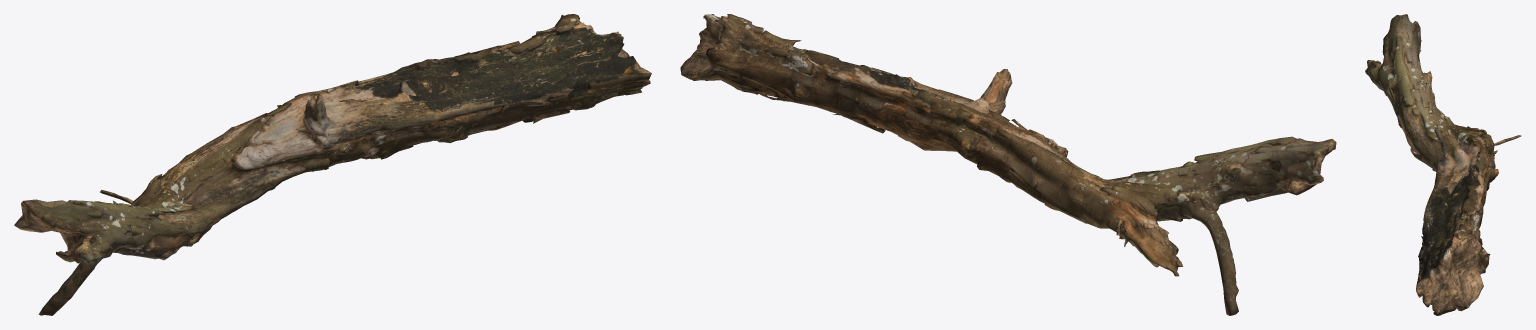
The model's file is bg_dead_tree_trunk_02.glb.
3 views of the same model, side by side, from view 1: azimuth 30°, elevation 25°; view 2: azimuth 150°, elevation 25°; view 3: azimuth 270°, elevation 25° (orthographic). The views are drawn at different scales.
Parts seen in each view (by area): view 1: bg_dead_tree_trunk_02; view 2: bg_dead_tree_trunk_02; view 3: bg_dead_tree_trunk_02.
Boxes of the visible parts, box(x1,y1,x2,y2) form: bg_dead_tree_trunk_02: box(14, 14, 651, 315); bg_dead_tree_trunk_02: box(680, 14, 1336, 315); bg_dead_tree_trunk_02: box(1365, 14, 1521, 315).
Bounding box in the file's own units: 5 × 1.3 × 1.3.
1 material, 1 textured.
